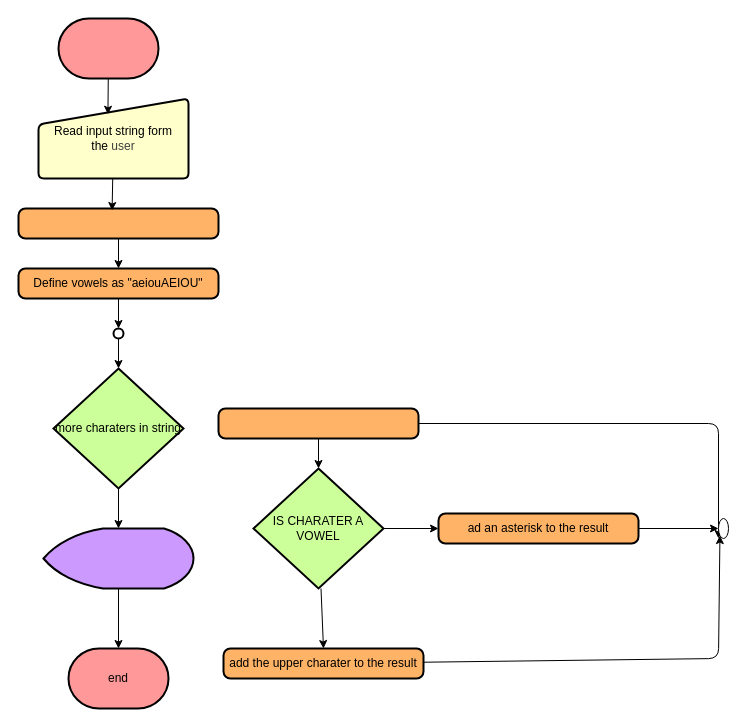
This 754x726 diagram has some shape labels left out. The shapes that lost their labels are listed below. From the top down, each one's centre as x and y in pixels, then its label:
At point 108,48: "start".
At point 118,223: "initiliza an empty string for the result".
At point 318,423: "Covert charater to uppercase".
At point 118,558: "Print the modified string".
